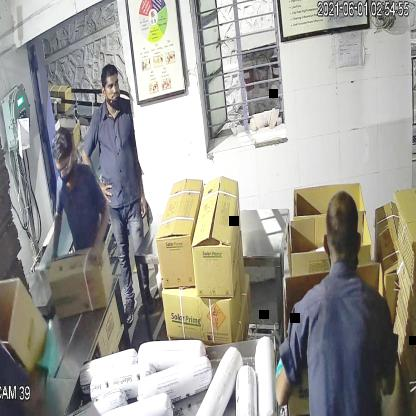goggles: (50, 152, 74, 179)
